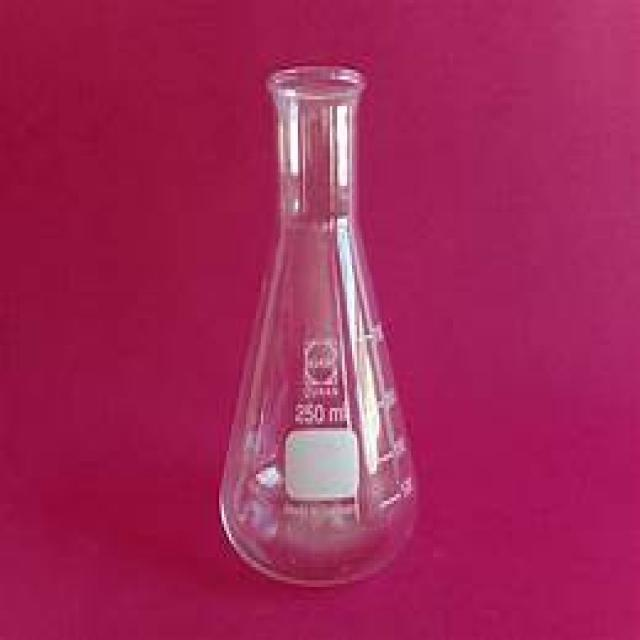Titrarion: (212, 62, 419, 591)
